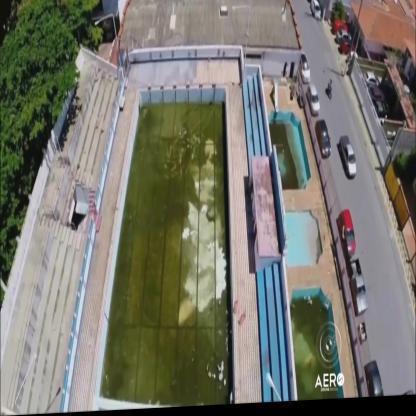agua: (116, 108, 225, 404), (293, 300, 323, 404), (275, 120, 288, 192)
